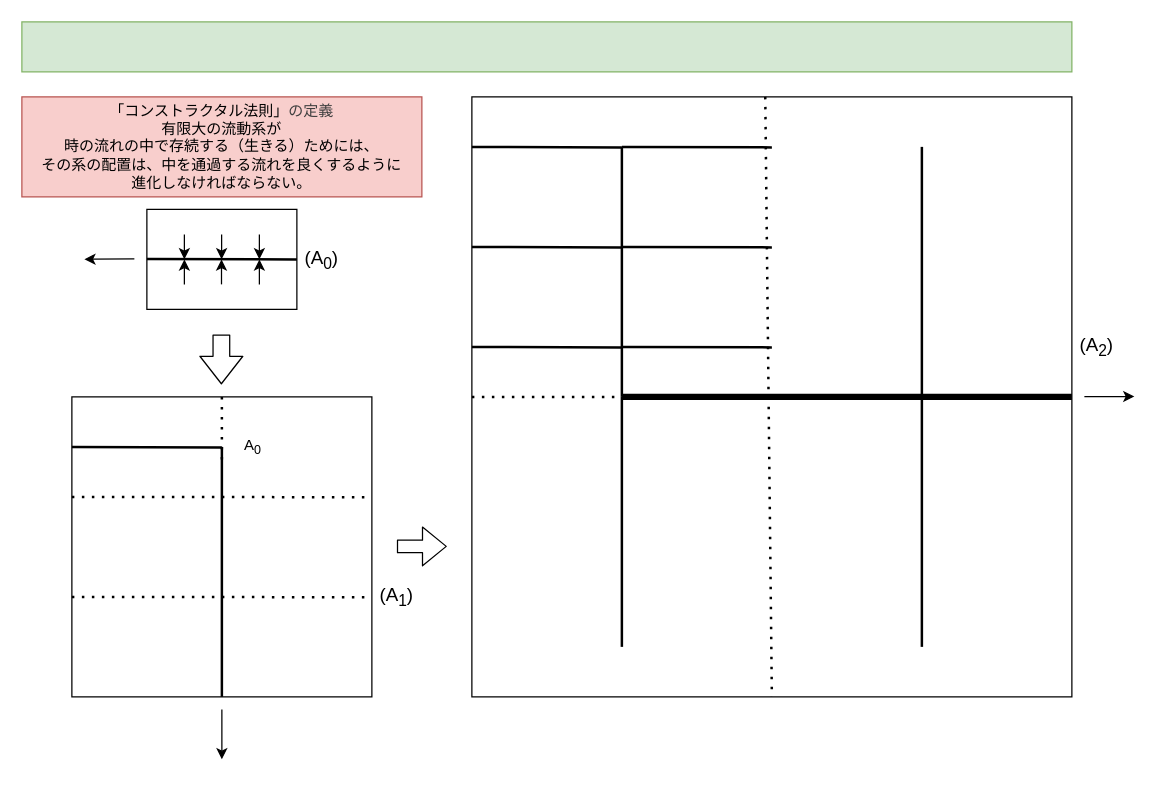
Some shapes in this 1166 by 791 pixel diagram are drawn without their labels. The shapes that lost their labels are listed below. From the top down, each one's centre as x and y in pixels, then its label:
pixel 546 46: 流れとかたち デザインと流れ(第二章)
pixel 771 396: A 1
